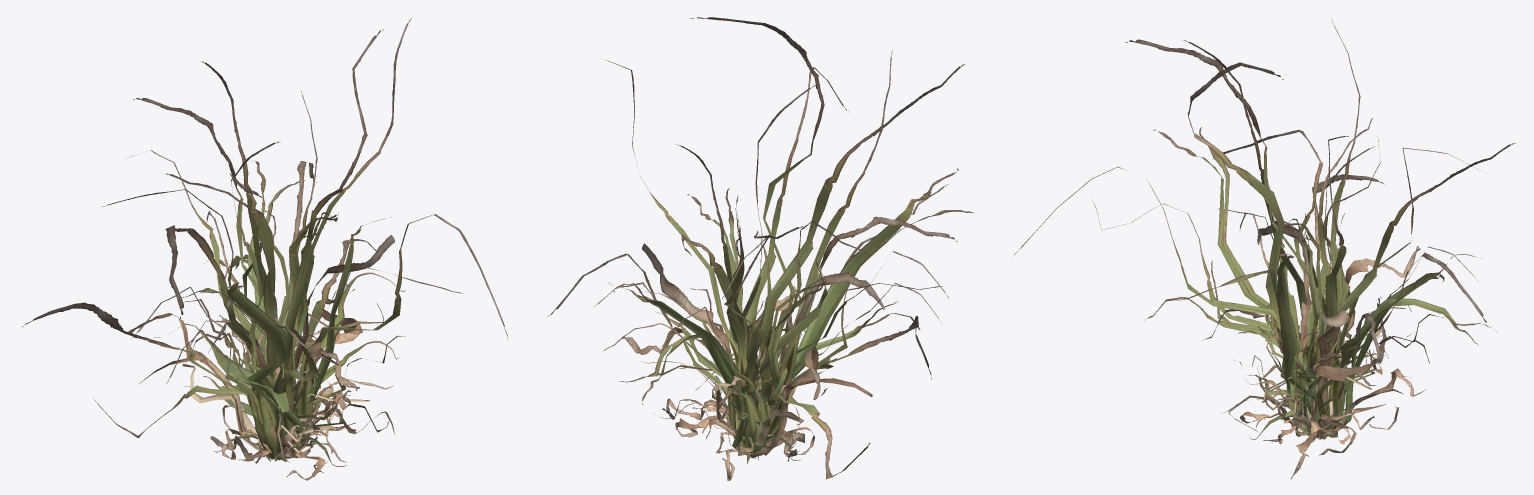
Rendered from river-grass.glb.
3 renders of one model, left to right at view 1: azimuth 30°, elevation 25°; view 2: azimuth 150°, elevation 25°; view 3: azimuth 270°, elevation 25°, orthographic. The views are drawn at different scales.
Visible parts, largest first — view 1: grass_medium_02_e, grass_medium_02_c, grass_medium_02_a; view 2: grass_medium_02_e, grass_medium_02_c, grass_medium_02_a; view 3: grass_medium_02_e, grass_medium_02_c, grass_medium_02_a.
Boxes of the visible parts, x1,y1,x2,y2 form: grass_medium_02_e: (21, 18, 508, 480); grass_medium_02_c: (186, 210, 405, 472); grass_medium_02_a: (214, 284, 350, 466); grass_medium_02_e: (548, 17, 973, 480); grass_medium_02_c: (603, 195, 942, 459); grass_medium_02_a: (662, 301, 801, 460); grass_medium_02_e: (1011, 18, 1515, 439); grass_medium_02_c: (1217, 208, 1497, 479); grass_medium_02_a: (1248, 295, 1381, 444).
Size of the model in its own units: 0.3647 by 0.3973 by 0.4565.
Materials: 1 (1 with a texture image).
